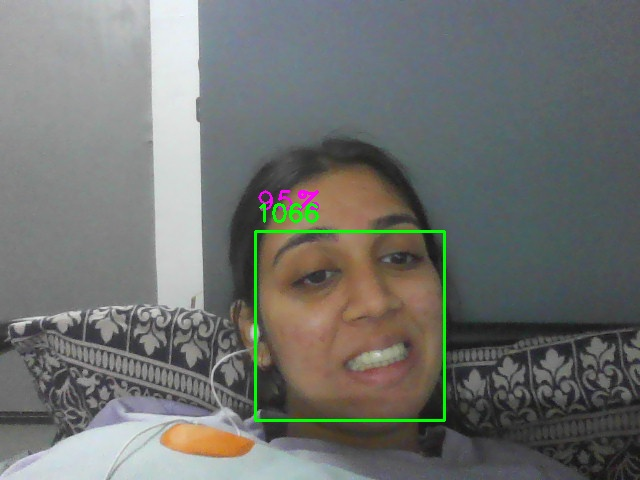real: (255, 231, 445, 421)
